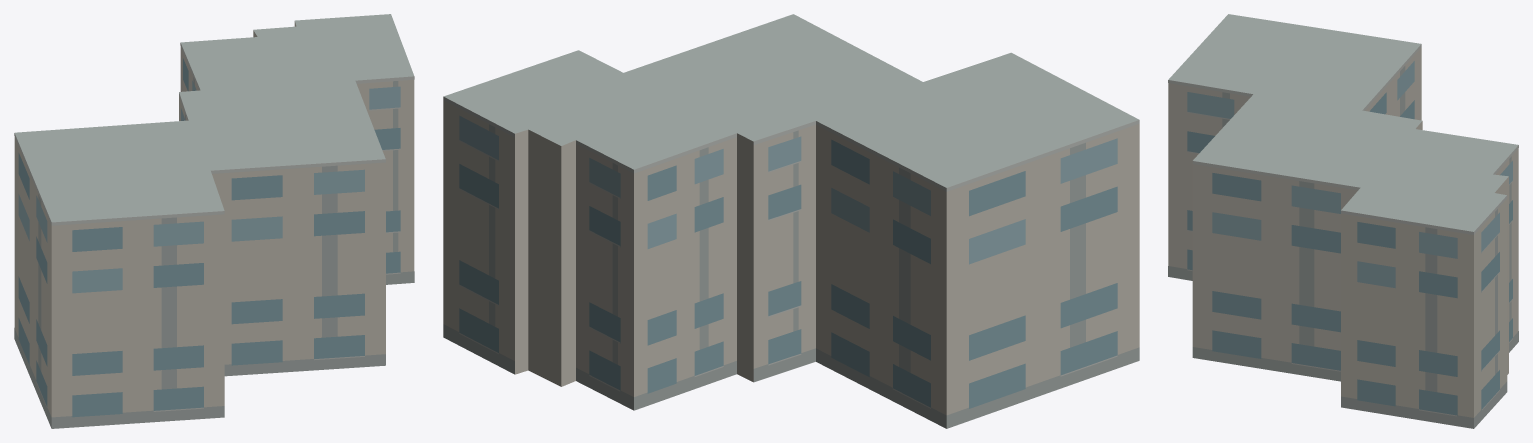
File: survey-upis-32692229.glb
The picture shows the model from 3 angles, left to right: view 1: azimuth 30°, elevation 25°; view 2: azimuth 150°, elevation 25°; view 3: azimuth 270°, elevation 25°; orthographic projection. The views are drawn at different scales.
Parts seen in each view (by area): view 1: survey-upis-32692229.tmp; view 2: survey-upis-32692229.tmp; view 3: survey-upis-32692229.tmp.
Boxes of the visible parts, box(x1,y1,x2,y2) form: survey-upis-32692229.tmp: box(14, 14, 414, 428); survey-upis-32692229.tmp: box(443, 14, 1139, 428); survey-upis-32692229.tmp: box(1168, 14, 1518, 428).
Size of the model in its own units: 36.19 by 15.25 by 24.61.
